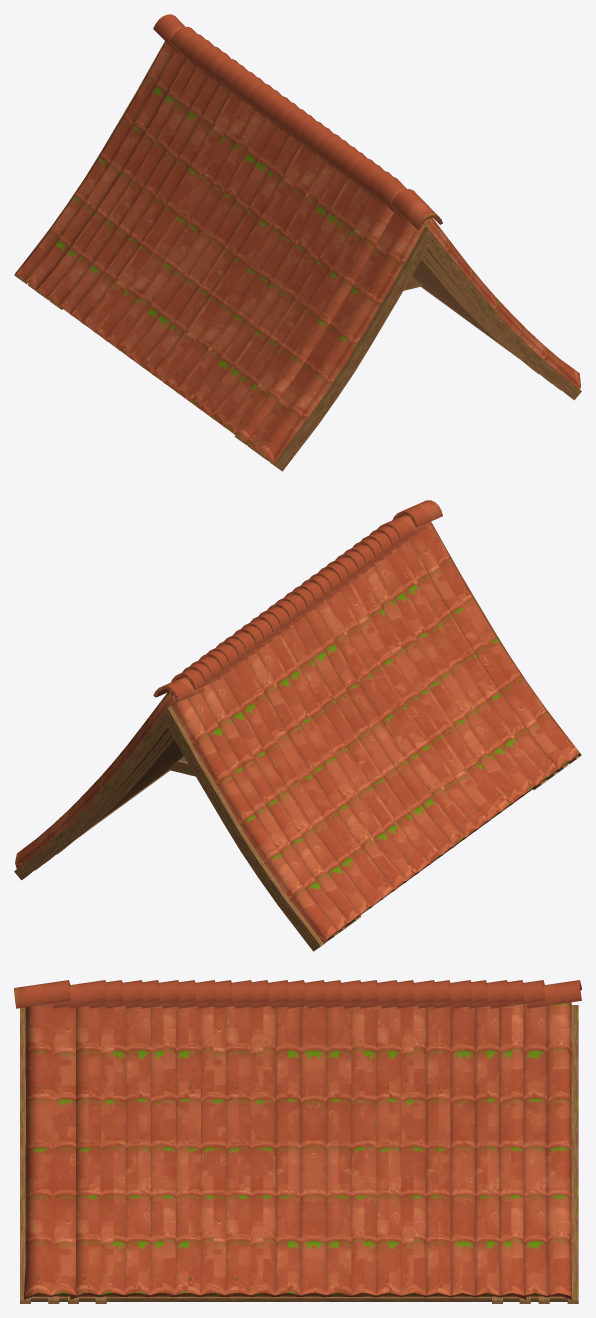
Rendered from village.glb.
3 views of the same model, one above another, from view 1: azimuth 30°, elevation 25°; view 2: azimuth 150°, elevation 25°; view 3: azimuth 270°, elevation 25° (orthographic). The views are drawn at different scales.
Parts seen in each view (by area): view 1: Roof_RoundTiles_6x8, Roof_RoundTiles_6x10; view 2: Roof_RoundTiles_6x10, Roof_RoundTiles_6x8; view 3: Roof_RoundTiles_6x10, Roof_RoundTiles_6x8.
Boxes of the visible parts, <box> form: Roof_RoundTiles_6x8: <box>36,34,551,452</box>; Roof_RoundTiles_6x10: <box>14,14,581,471</box>; Roof_RoundTiles_6x10: <box>14,500,581,951</box>; Roof_RoundTiles_6x8: <box>44,526,559,932</box>; Roof_RoundTiles_6x10: <box>14,980,581,1303</box>; Roof_RoundTiles_6x8: <box>68,980,530,1303</box>.
Size of the model in its own units: 8.25 by 5.67 by 11.85.
8 materials, 7 textured.
